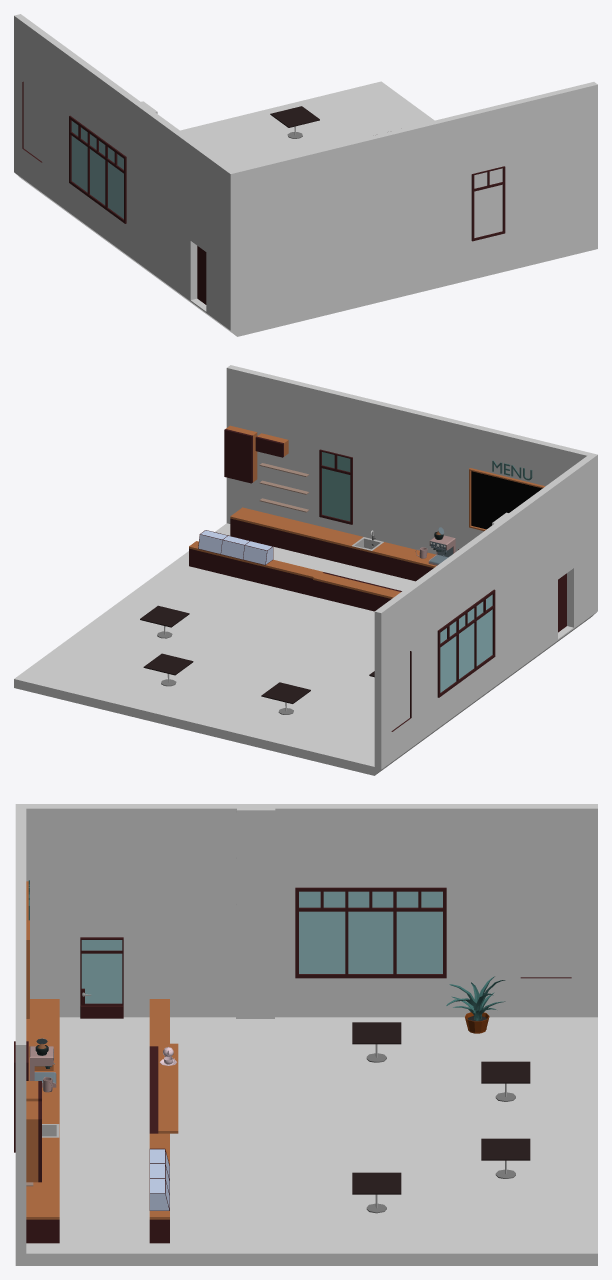
Rendered from Environnement.fbx.
3 views of the same model, one above another, from view 1: azimuth 30°, elevation 25°; view 2: azimuth 150°, elevation 25°; view 3: azimuth 270°, elevation 25° (orthographic). The views are drawn at different scales.
Parts seen in each view (by area): view 1: Sol, Fenetre, Fenetre.002, Table.003, Porte; view 2: Sol, PlanLavabo, Fenetre, PlanDeTravail, TableauMenu, Fenetre.002, Comptoir.001, Armoire, CarrauxVitrine, Table.003, Table.002, Table.004 (+2 smaller); view 3: Sol, Fenetre, PlanLavabo, Porte, Comptoir.001, Table.002, Table.005, Table.003, Table.004, Armoire, Plant, CarrauxVitrine (+3 smaller).
Boxes of the visible parts, box(x1,y1,x2,y2) form: Sol: box(14, 14, 597, 336); Fenetre: box(69, 115, 126, 223); Fenetre.002: box(471, 166, 505, 241); Table.003: box(270, 106, 319, 138); Porte: box(197, 246, 206, 304); Sol: box(14, 365, 597, 775); PlanLavabo: box(230, 507, 436, 581); Fenetre: box(437, 589, 495, 697); PlanDeTravail: box(189, 541, 323, 596); TableauMenu: box(469, 468, 545, 530); Fenetre.002: box(319, 449, 352, 524); Comptoir.001: box(313, 572, 401, 611); Armoire: box(224, 425, 257, 483); CarrauxVitrine: box(198, 530, 272, 564); Table.003: box(143, 653, 193, 686); Table.002: box(140, 605, 189, 638); Table.004: box(261, 682, 310, 714); Sol: box(15, 804, 597, 1265); Fenetre: box(295, 887, 446, 978); PlanLavabo: box(26, 999, 59, 1243); Porte: box(80, 937, 123, 1018); Comptoir.001: box(149, 1043, 178, 1133); Table.002: box(352, 1172, 401, 1213); Table.005: box(352, 1022, 401, 1062); Table.003: box(481, 1138, 530, 1178); Table.004: box(481, 1061, 530, 1101); Armoire: box(26, 1101, 41, 1182); Plant: box(446, 976, 505, 1033); CarrauxVitrine: box(150, 1149, 169, 1210).
Size of the model in its own units: 1091 by 465 by 1113.
